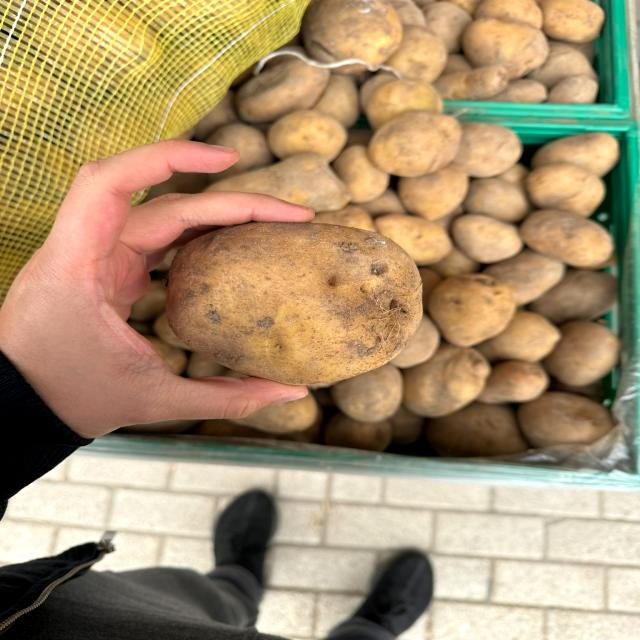potato: (146, 211, 436, 394)
